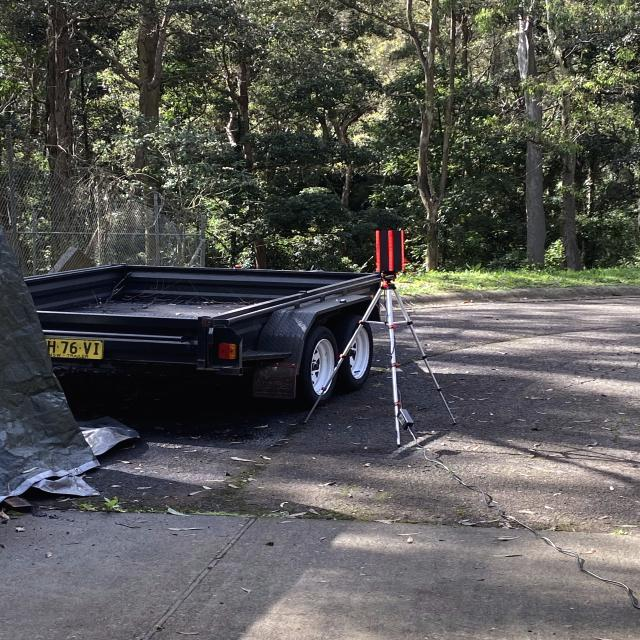matrix: (370, 226, 418, 282)
